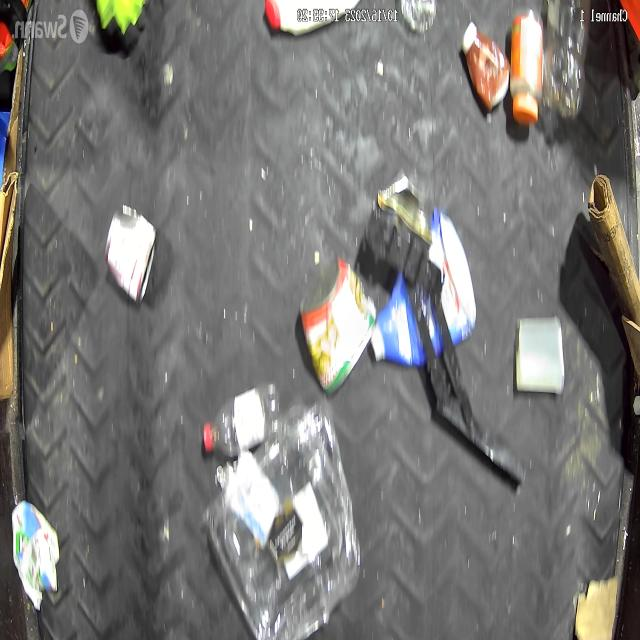can: (298, 250, 377, 390), (102, 203, 161, 307)
non_white_jug: (369, 209, 476, 376)
plastic_bottle: (198, 370, 280, 466), (539, 2, 588, 120)
